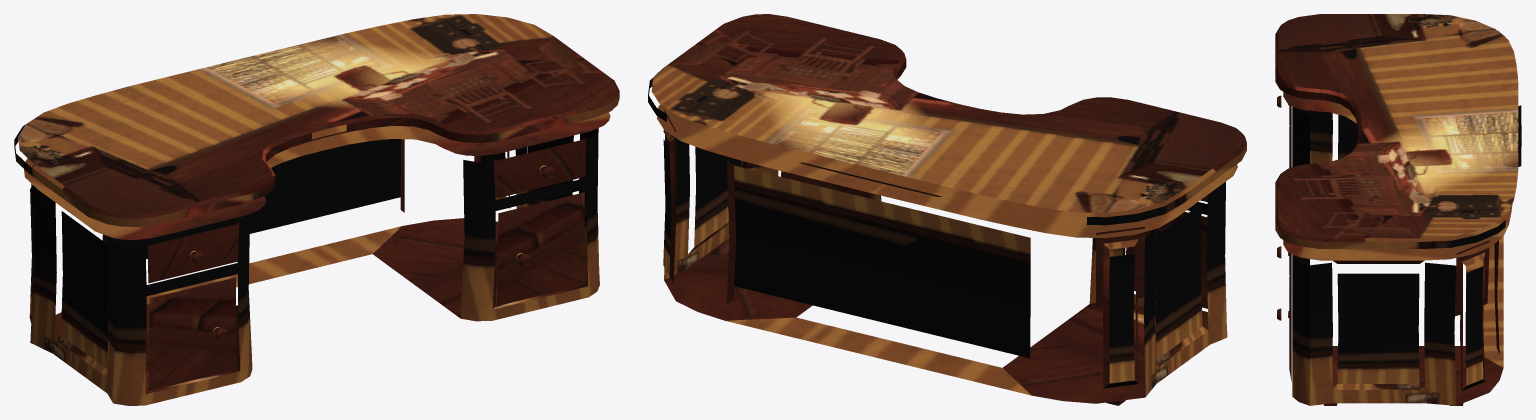
File: Cabinet_table.FBX
3 views of the same model, side by side, from view 1: azimuth 30°, elevation 25°; view 2: azimuth 150°, elevation 25°; view 3: azimuth 270°, elevation 25° (orthographic). The views are drawn at different scales.
Parts seen in each view (by area): view 1: Cabinet_table; view 2: Cabinet_table; view 3: Cabinet_table.
Boxes of the visible parts, x1,y1,x2,y2 form: Cabinet_table: [14, 14, 619, 405]; Cabinet_table: [648, 14, 1246, 405]; Cabinet_table: [1275, 14, 1521, 405].
Bounding box in the file's own units: 2362 × 906 × 1085.
